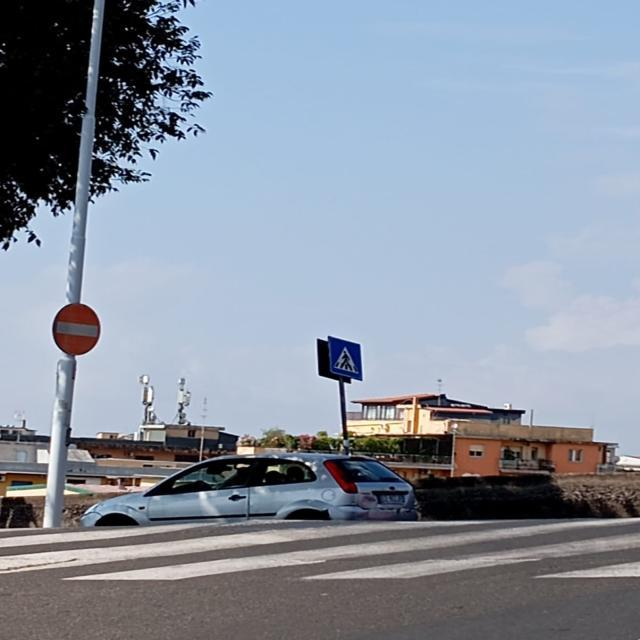info_crosswalk: (327, 335, 365, 384)
